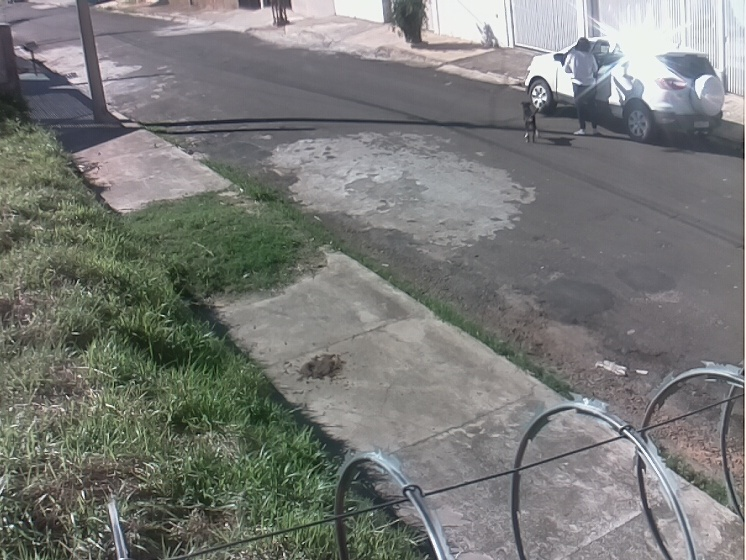person: (562, 36, 601, 138)
